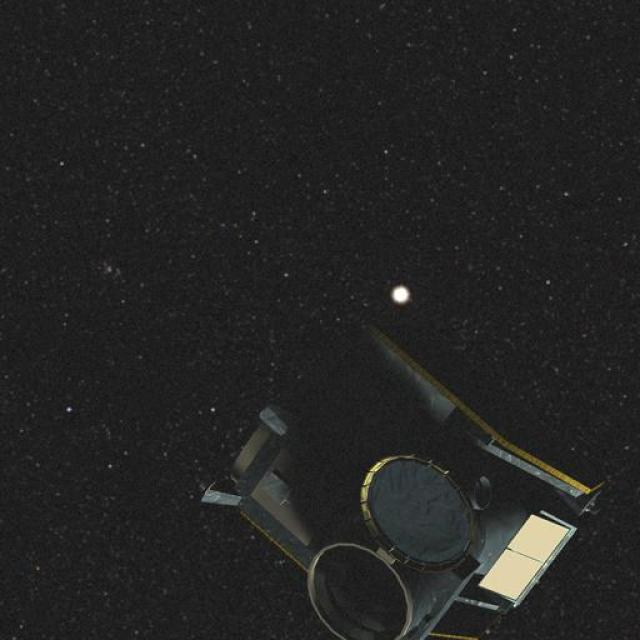cheops: (222, 284, 604, 640)
